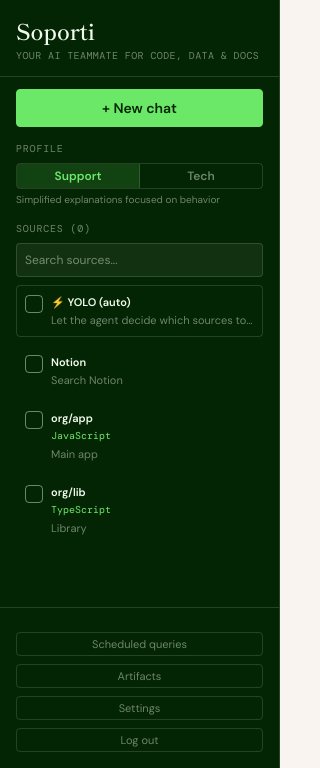
Test: Sidebar › filters repos by search
Check: the text "org/app" is shown, box [51, 411, 93, 425]
In the field with placeholder "Search sources...": (140, 260) [16, 243, 263, 277], type "lib"
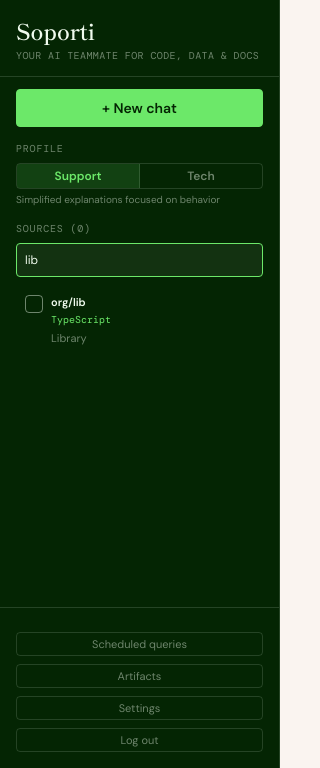
Check: the text "org/lib" is shown, box [51, 295, 86, 309]
Check: the text "org/app" is gone
